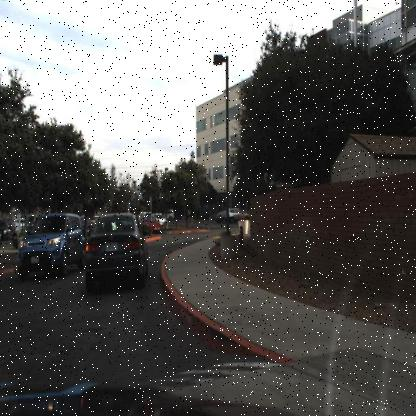car: (81, 205, 149, 294), (14, 206, 84, 282), (134, 211, 161, 237), (223, 203, 249, 224), (222, 206, 251, 224), (140, 212, 160, 237), (162, 204, 174, 220)
